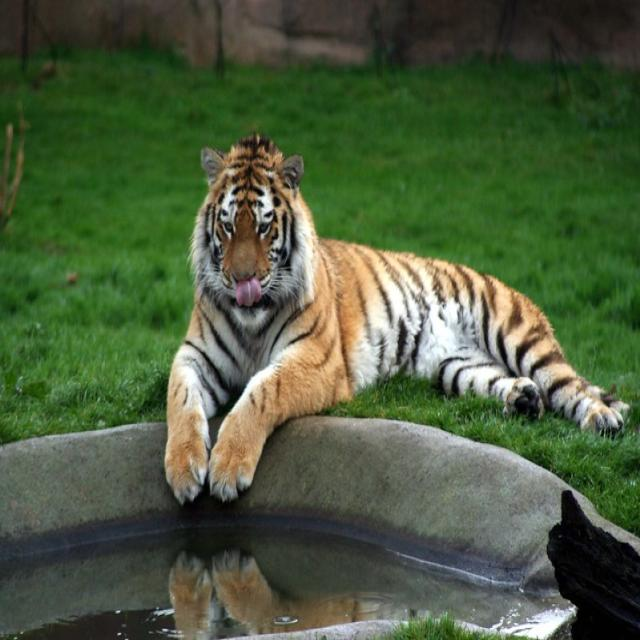Tiger: (154, 122, 616, 508)
